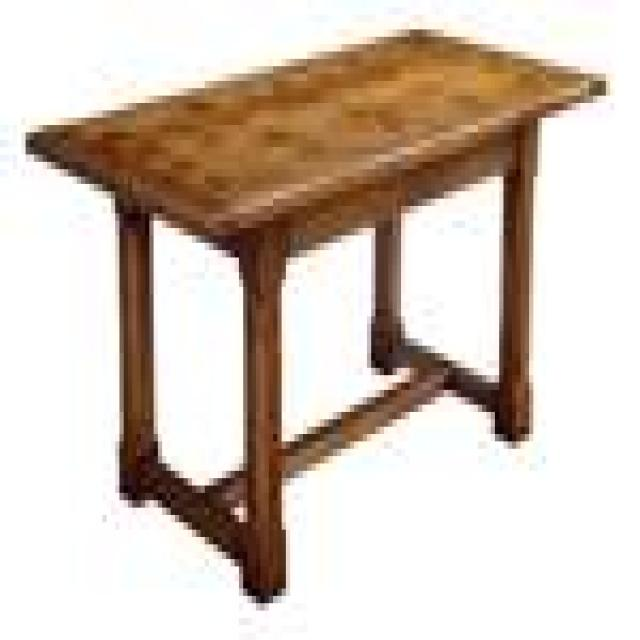table: (26, 25, 605, 608)
